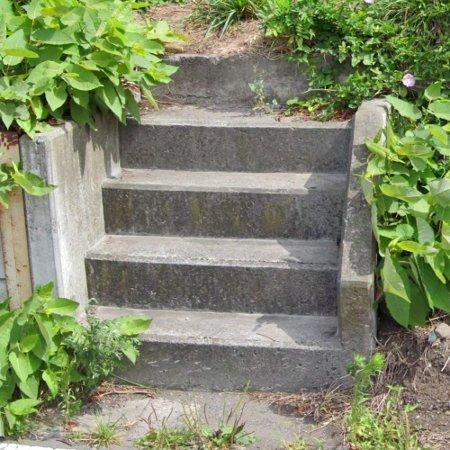stairs: (86, 107, 352, 392)
